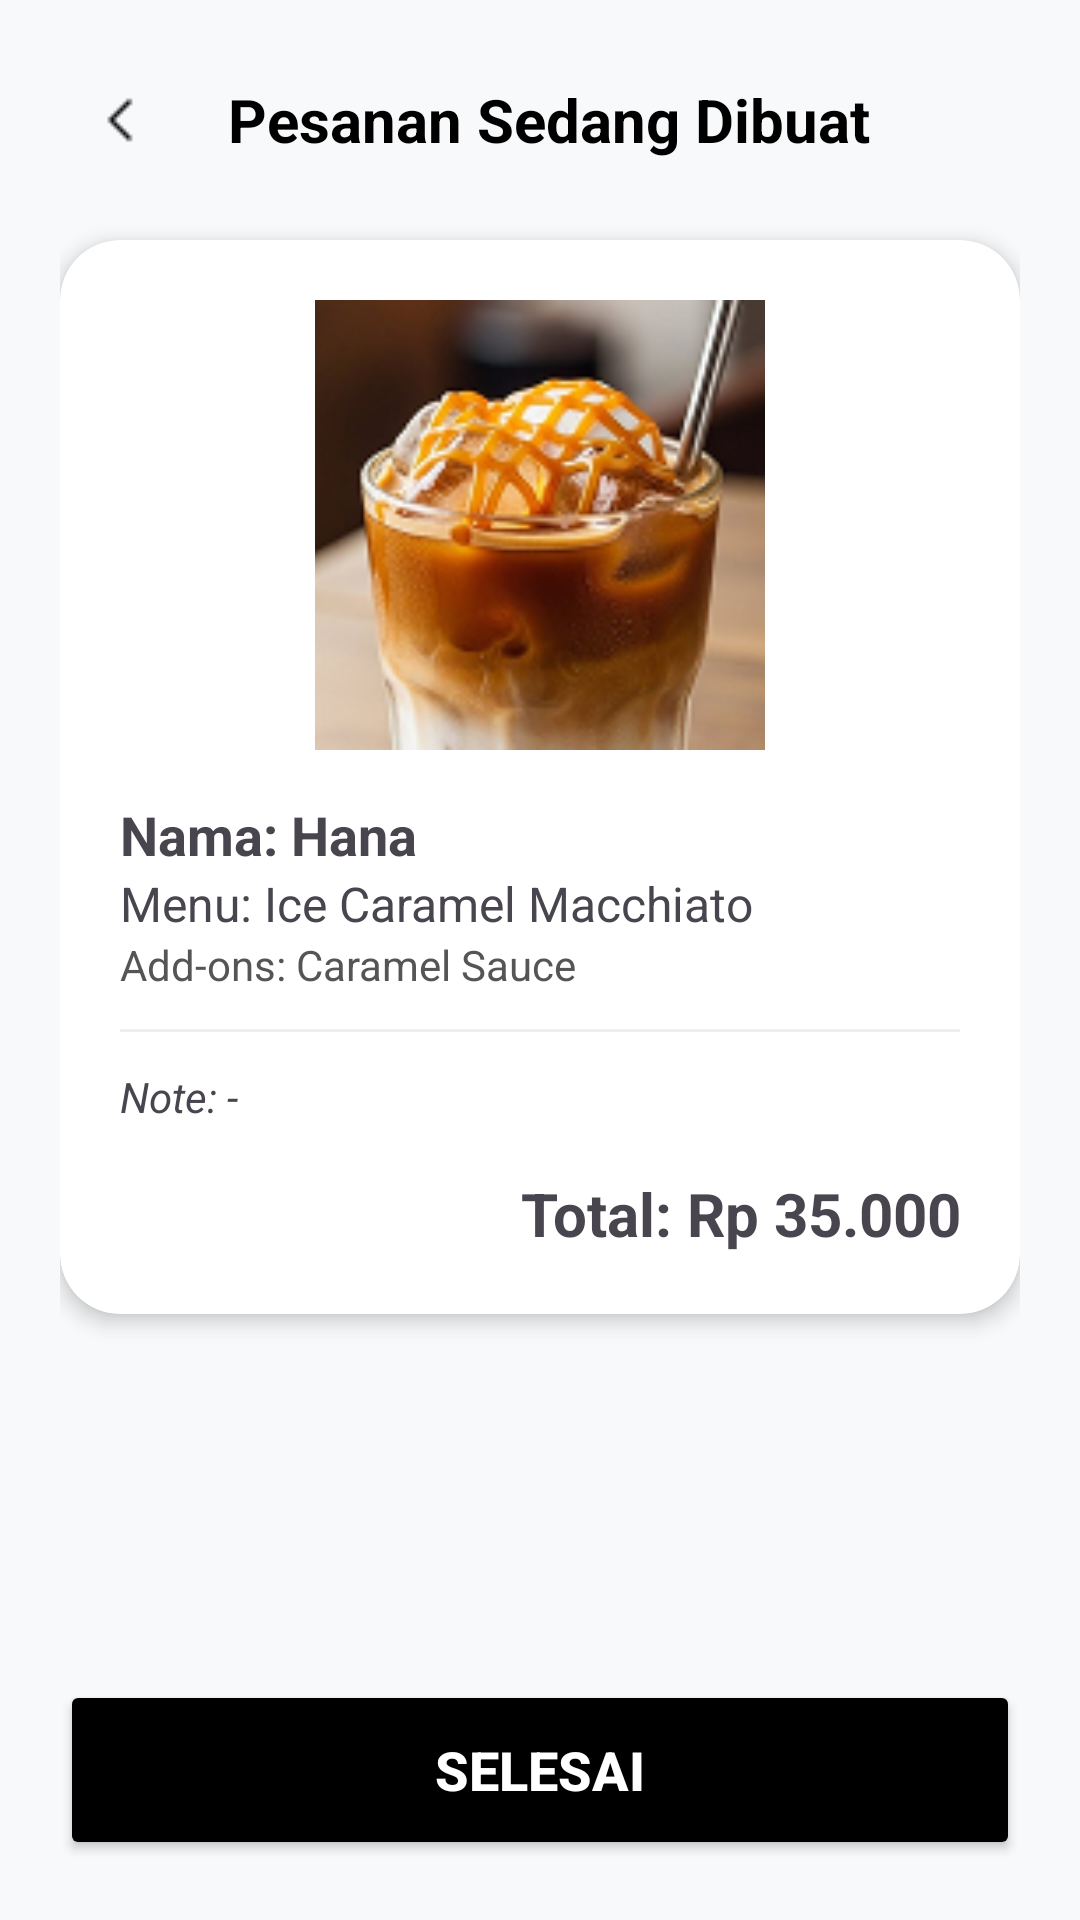

Point at icon controls on the screen. Image size 1080 x 1920, points as (x=x, y=y).
back: (x=120, y=120)
